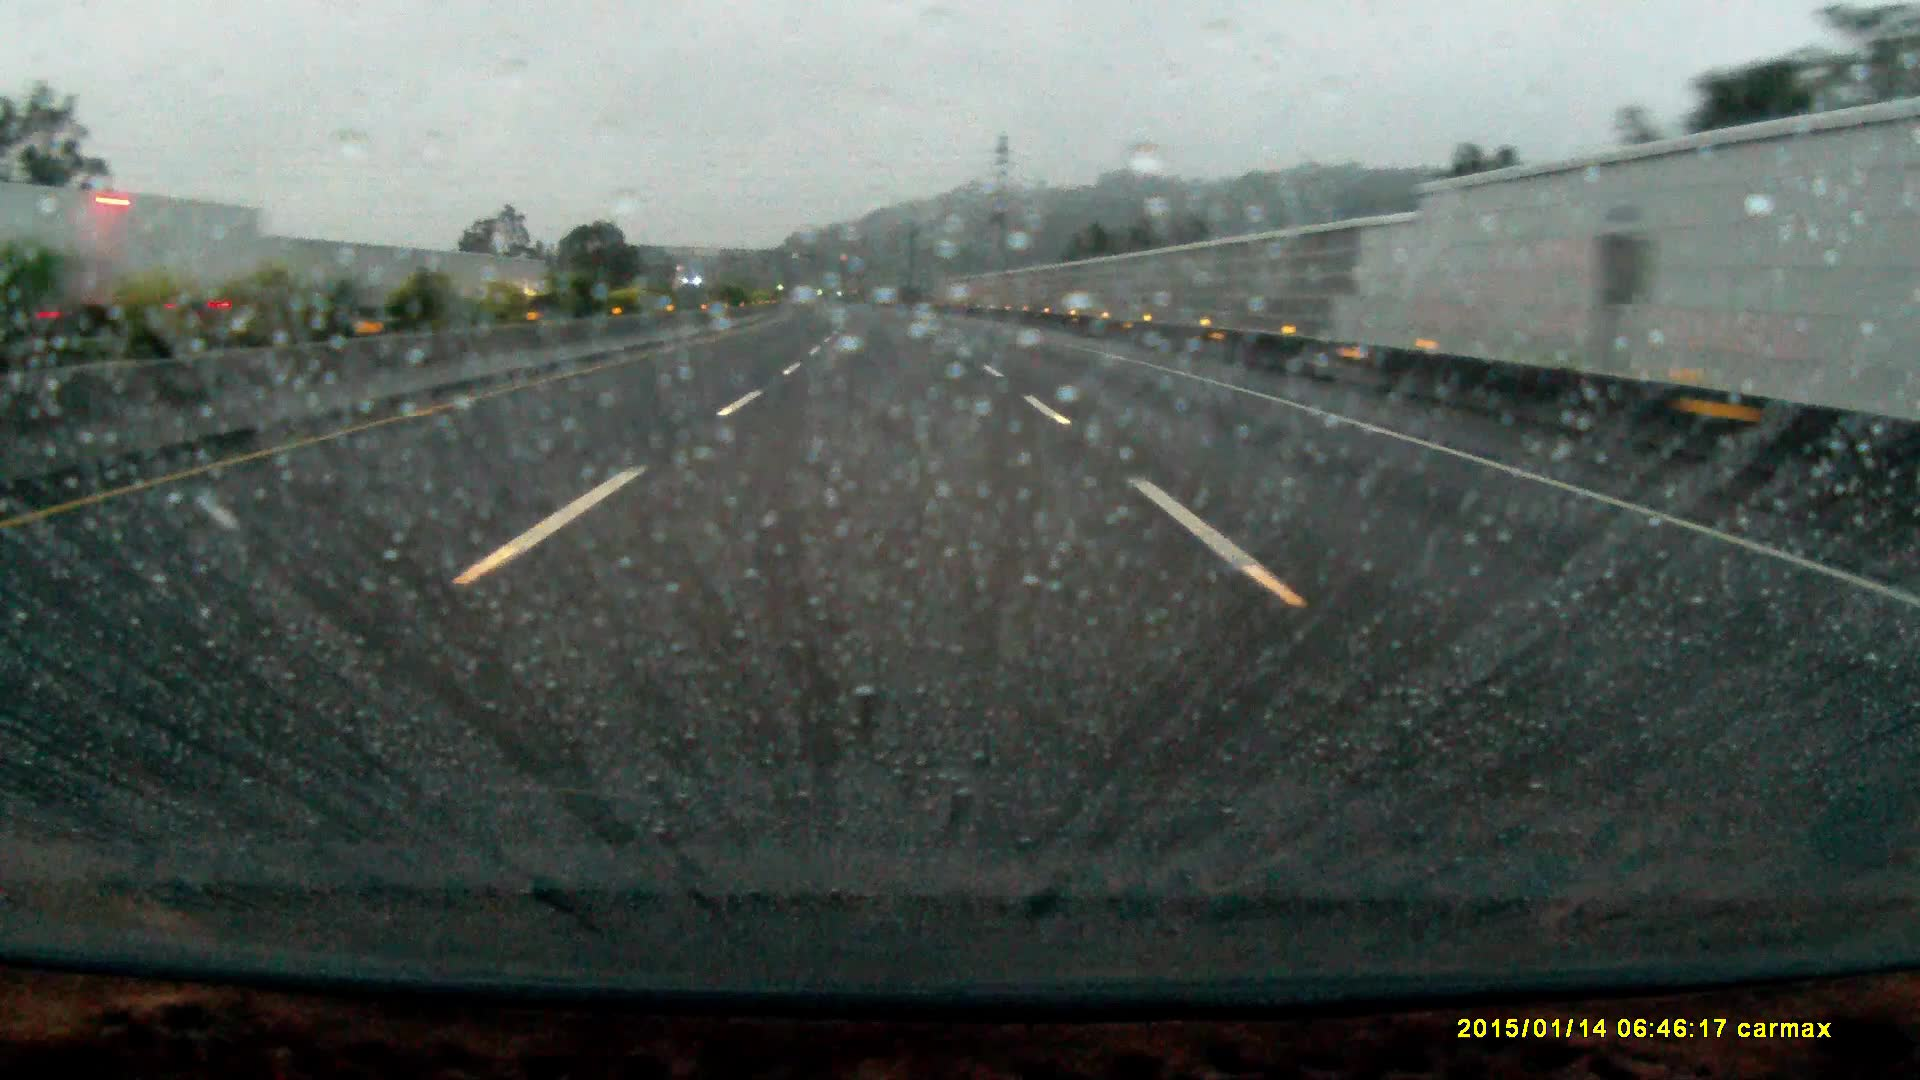vehicle: (1, 193, 285, 345)
